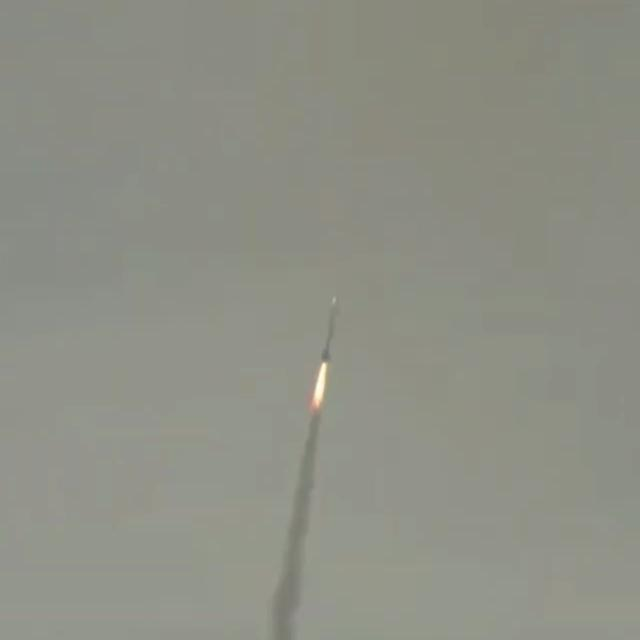smoke_trail_with_rocket: (269, 301, 339, 640)
